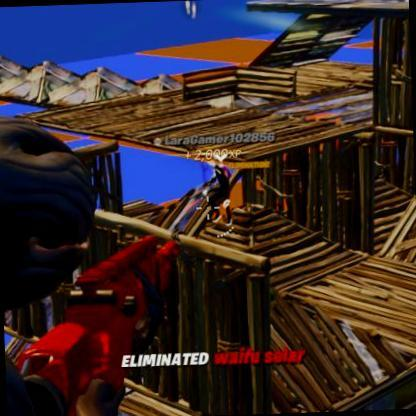person: (203, 164, 228, 224)
